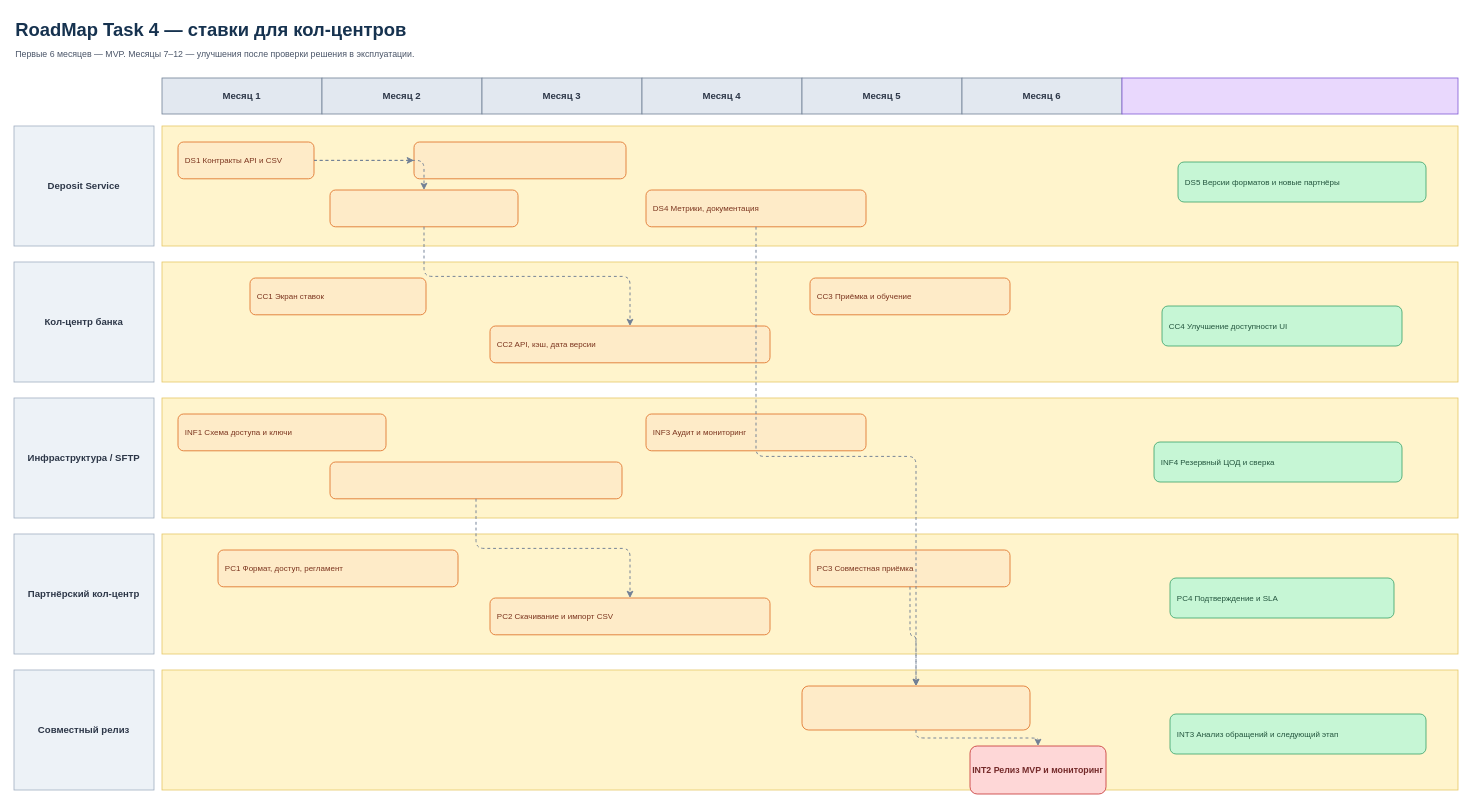
The diagram is 1472 pixels wide and 808 high, and some of its shapes have lost their labels. The shapes that lost their labels are listed below. From the top down, each one's centre as x and y in pixels, then its label:
At [1289,95]: "Месяцы 7–12 — целевое развитие".
At [519,160]: "DS3 CSV-экспорт и retry".
At [423,208]: "DS2 API ставок".
At [475,480]: "INF2 SFTP и тестовый доступ".
At [915,707]: "INT1 Сквозные, нагрузочные и ИБ-тесты".
